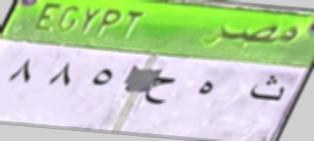5: (87, 61, 117, 96)
7aa: (144, 70, 176, 110)
8: (7, 55, 35, 88), (48, 59, 74, 93)
haa: (189, 74, 220, 103)
thaa: (247, 67, 288, 112)
